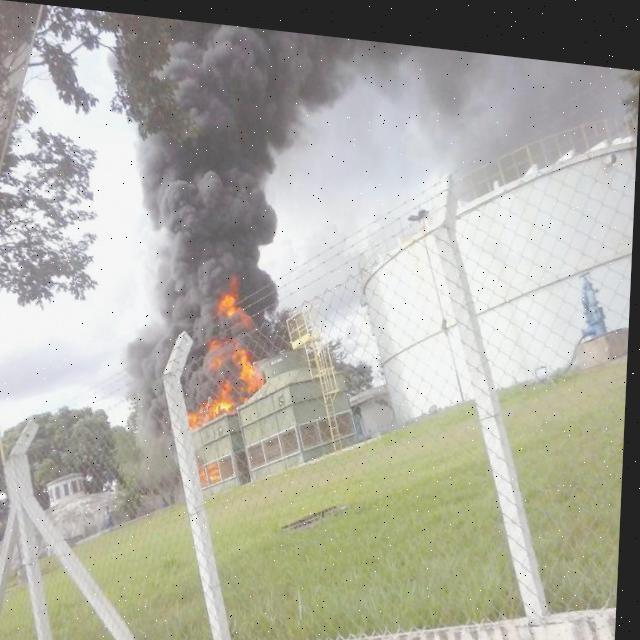Fire: (186, 281, 274, 437)
